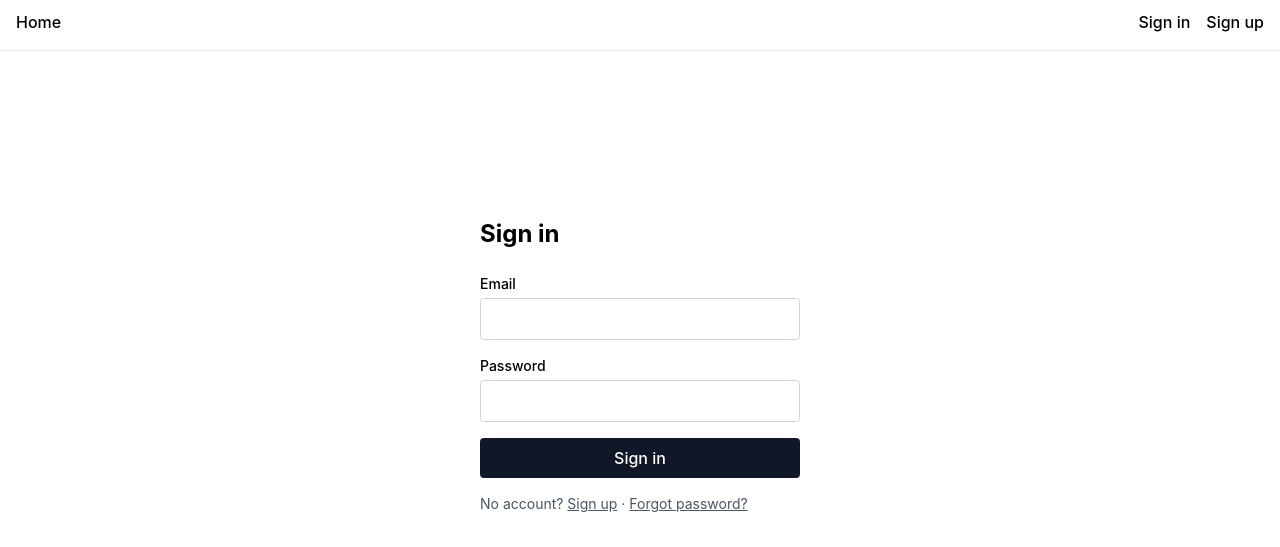
Sign-in form › submits valid input and surfaces a server rejection
In the field labelled "Email": (640, 319) [480, 298, 800, 340], type "ada@example.com"
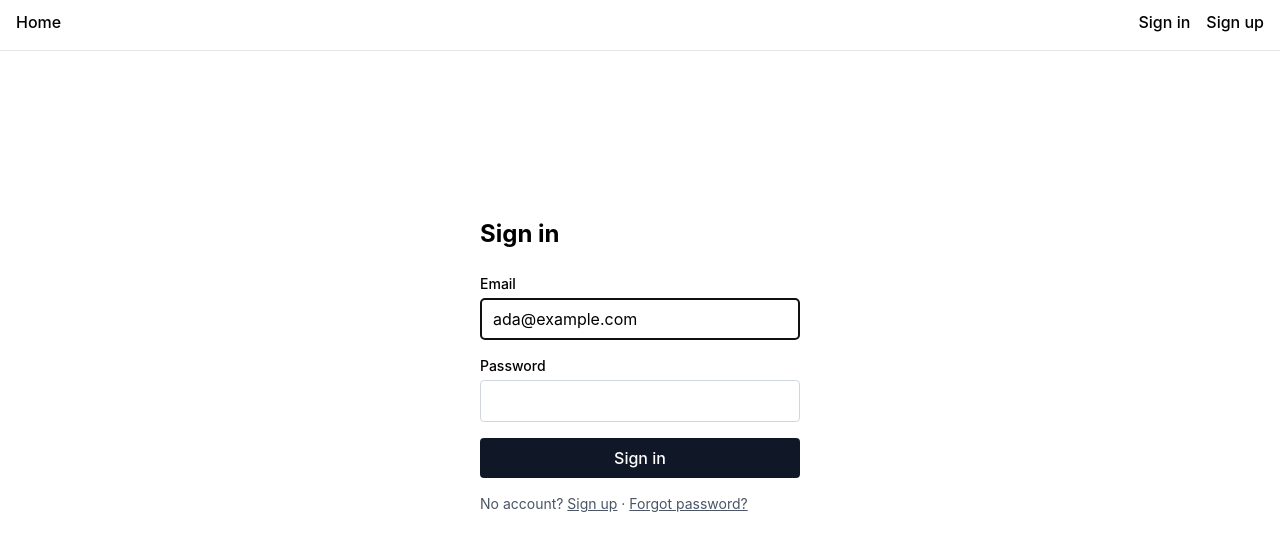
In the password field labelled "Password": (640, 401) [480, 380, 800, 422], type "hunter2222"
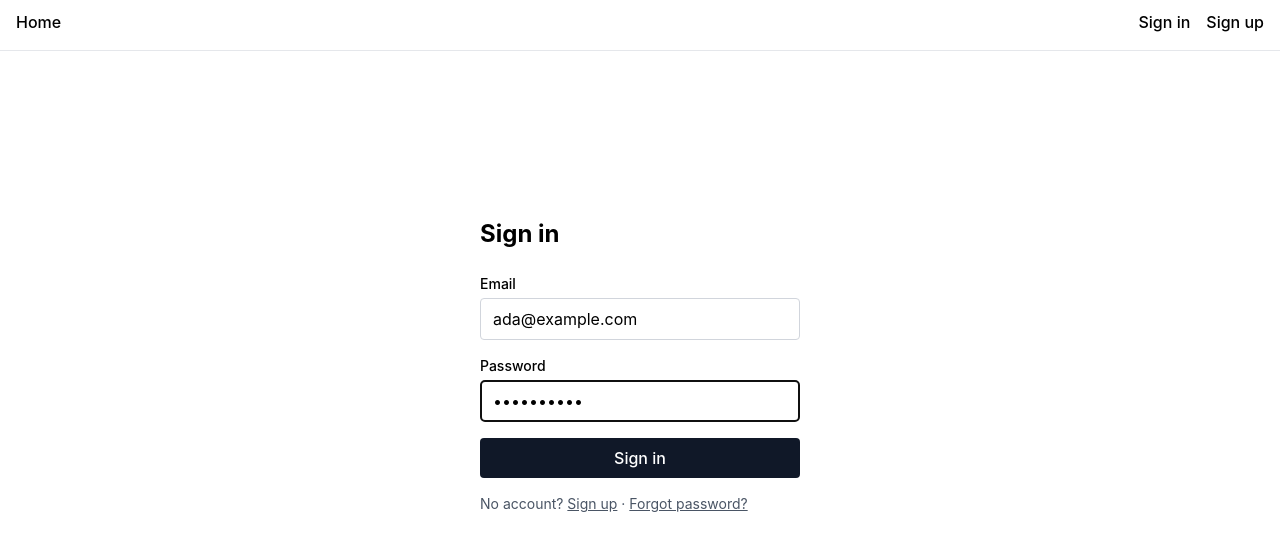
Click the button "Sign in": click(640, 458) [480, 438, 800, 478]
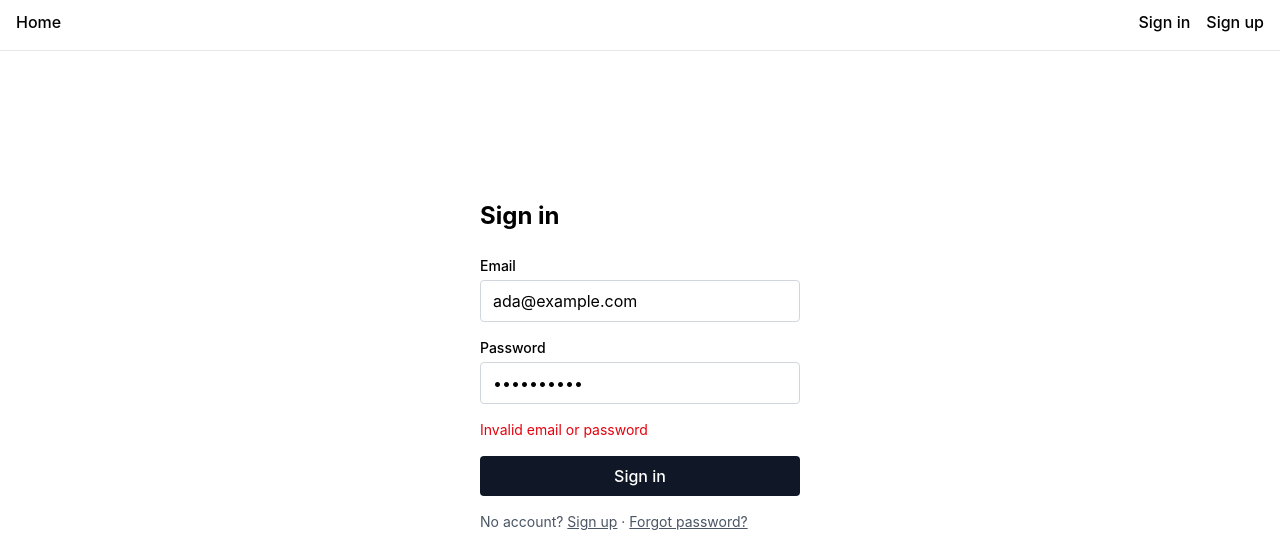
expect the text "Invalid email or password" is shown: met, box [480, 421, 648, 438]
